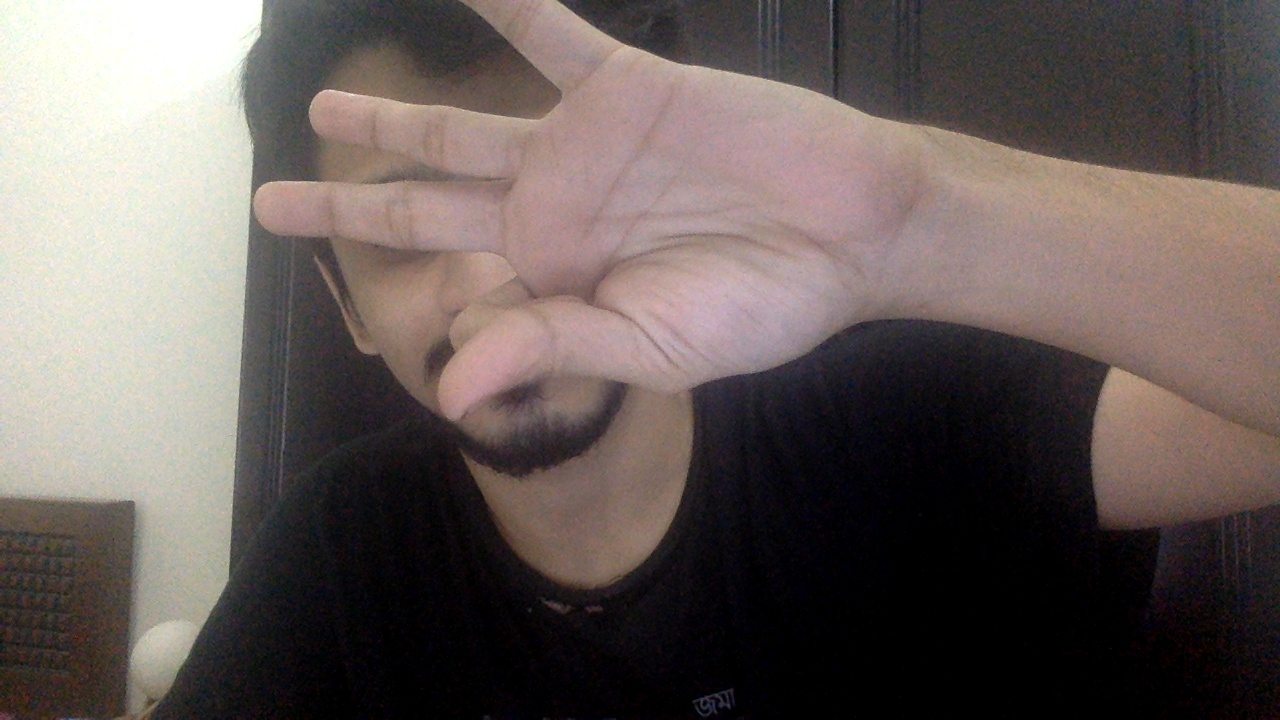perfect: (254, 1, 917, 417)
